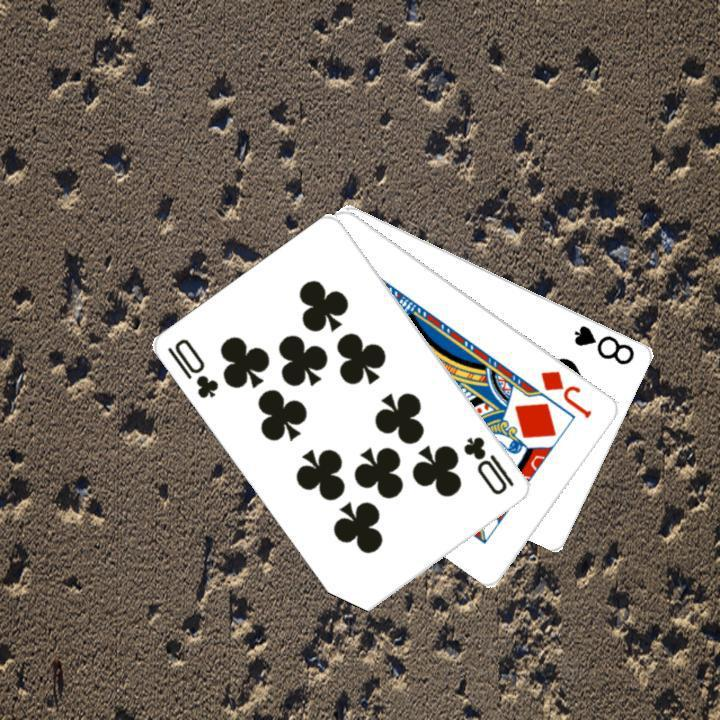10: (163, 334, 222, 401), (459, 432, 517, 498)
8: (569, 320, 637, 367)
J: (537, 366, 595, 421)
